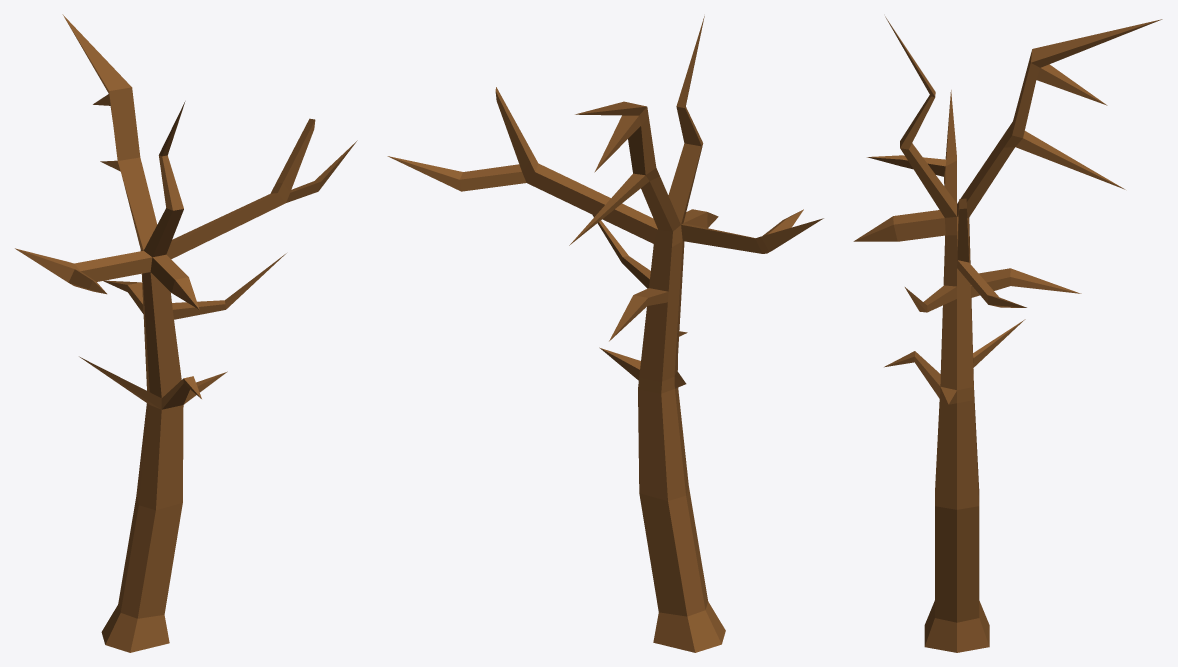
The model's file is Tree2.fbx.
3 views of the same model, side by side, from view 1: azimuth 30°, elevation 25°; view 2: azimuth 150°, elevation 25°; view 3: azimuth 270°, elevation 25° (orthographic). The views are drawn at different scales.
Visible parts, largest first — view 1: Tree2; view 2: Tree2; view 3: Tree2.
Boxes of the visible parts, x1,y1,x2,y2 form: Tree2: (15, 14, 357, 652); Tree2: (387, 16, 823, 652); Tree2: (853, 16, 1162, 652).
Size of the model in its own units: 262 by 370 by 165.
